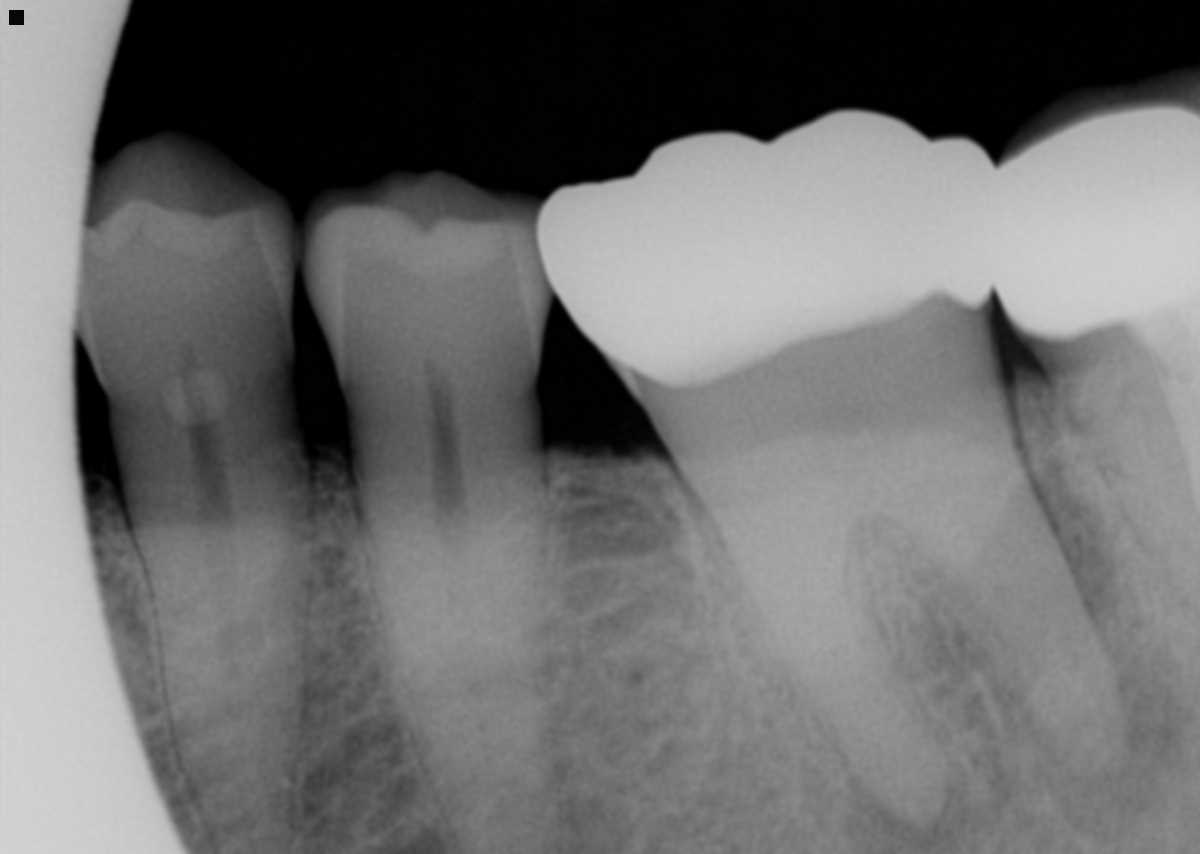Apical Lesion: (1001, 501, 1184, 845), (850, 737, 986, 854)
Distal Root: (899, 429, 1124, 768)
Main Canal: (193, 475, 241, 740), (436, 458, 479, 736)
Main Root: (352, 451, 565, 853), (127, 455, 310, 854)
Mesial Root: (719, 496, 938, 811)
